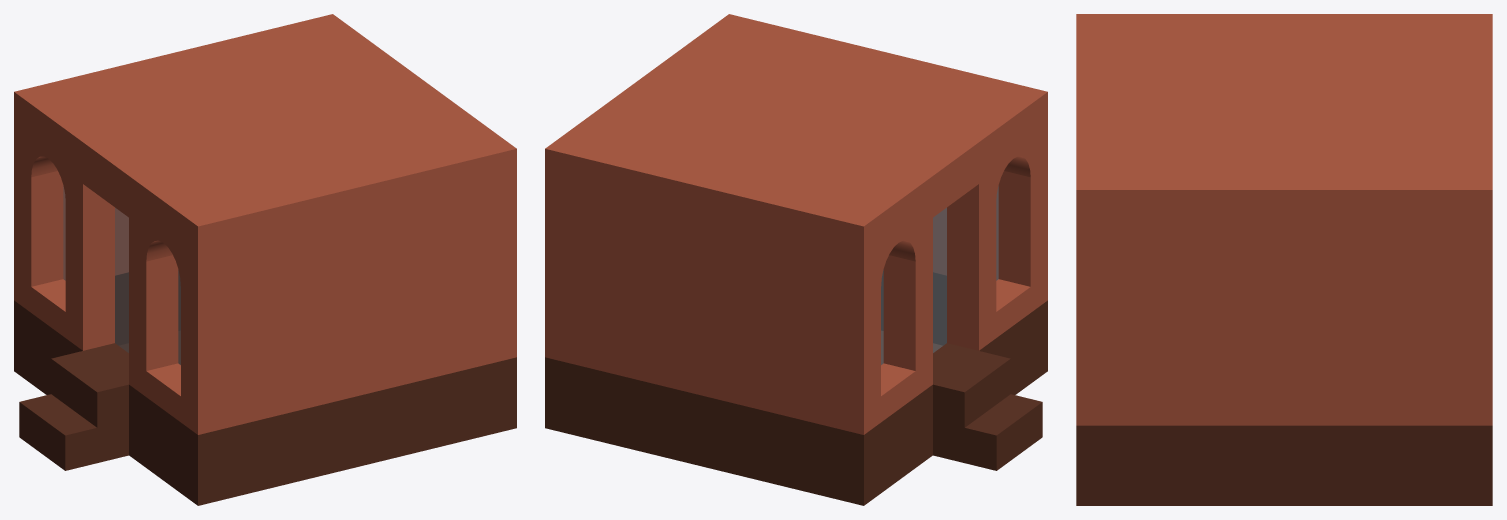
File: modularBuildings_025.obj
The picture shows the model from 3 angles, left to right: view 1: azimuth 30°, elevation 25°; view 2: azimuth 150°, elevation 25°; view 3: azimuth 270°, elevation 25°; orthographic projection. The views are drawn at different scales.
Parts seen in each view (by area): view 1: Mesh1 Group1 Model; view 2: Mesh1 Group1 Model; view 3: Mesh1 Group1 Model.
Part boxes in pixels (x1,y1,x2,y2): Mesh1 Group1 Model: (14,14,516,505); Mesh1 Group1 Model: (545,14,1047,505); Mesh1 Group1 Model: (1076,14,1492,505).
Size of the model in its own units: 1.2 by 0.8375 by 1.
